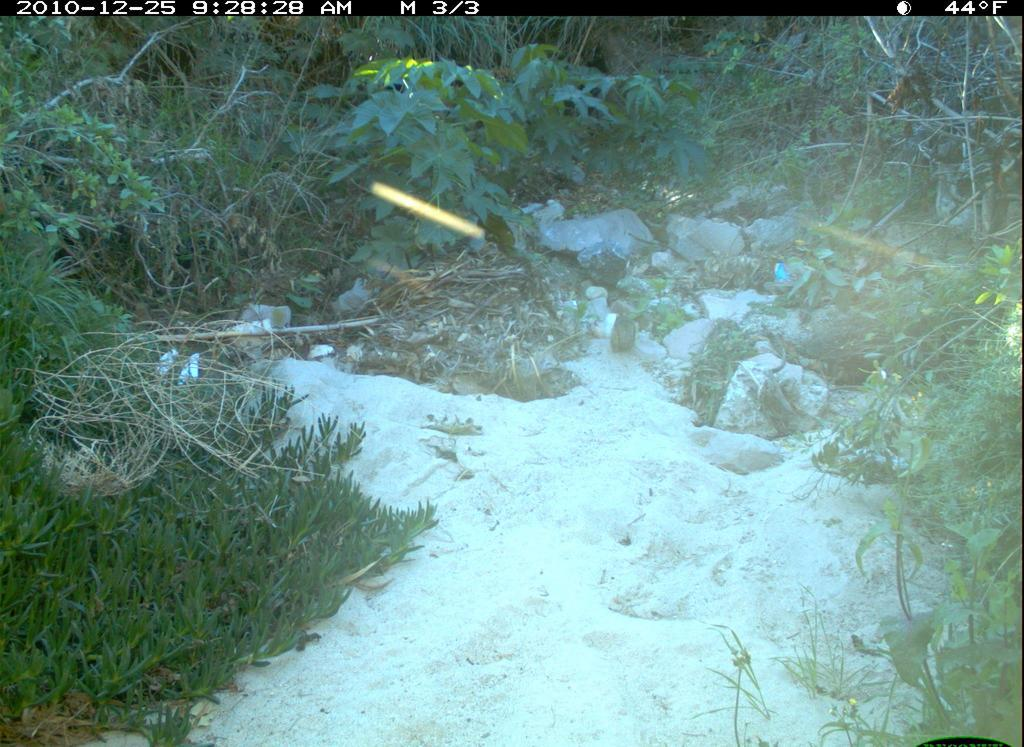squirrel: (610, 309, 639, 358)
